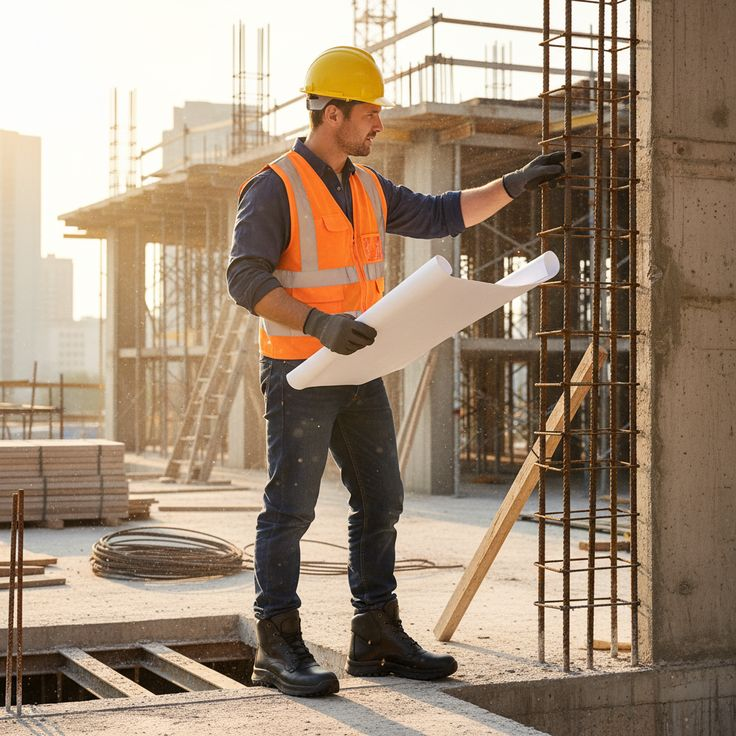hardhat: (289, 37, 408, 126)
person: (224, 34, 588, 723)
safety_vest: (236, 145, 424, 371)
